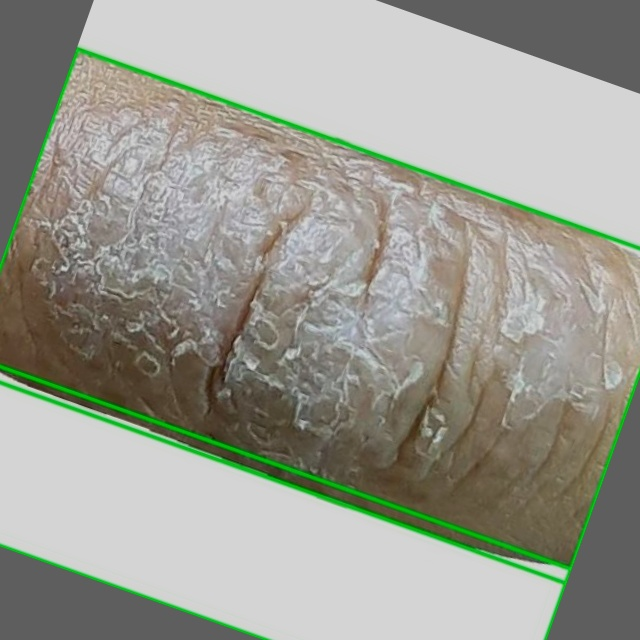Eczema: (0, 48, 639, 583), (0, 366, 571, 639)
